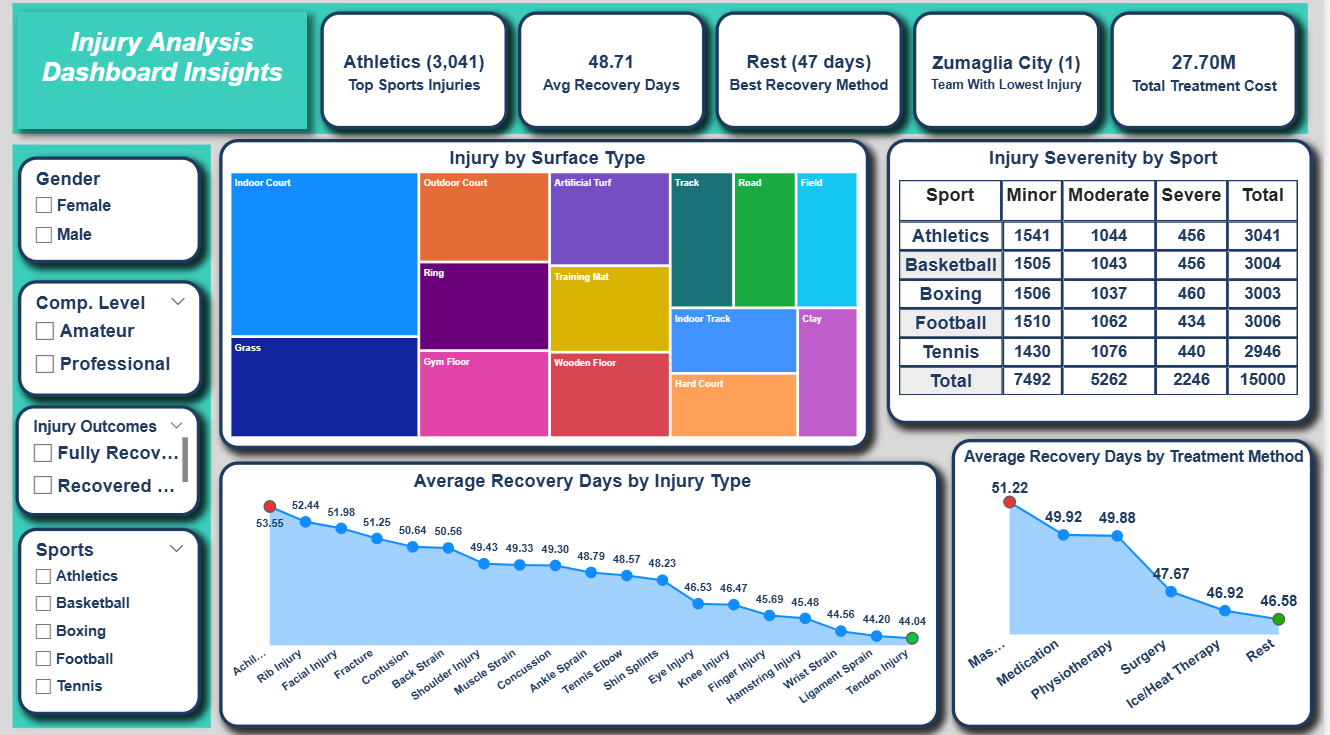

This screenshot's page, from the dashboard's own definition file:
{"tool":"powerbi","page":{"name":"Page 2","canvas":[1920,1080],"ordinal":1},"visuals":[{"type":"pivotTable","title":"Injury Severenity by Sport","fields":{"Rows":["DimClub.Sport"],"Columns":["DimInjuryType.Severity"],"Values":["CountNonNull(FactInjuries.InjuryID)"]},"box":[1286.7,209.9,617.1,412.6],"z":0},{"type":"areaChart","title":"Average Recovery Days by Injury Type","fields":{"Category":["DimInjuryType.InjuryType"],"Y":["Avg(FactInjuries.DaysToRecovery)"]},"box":[320.3,676.8,1042.4,385.5],"z":1000},{"type":"areaChart","title":"Average Recovery Days by Treatment Method","fields":{"Category":["DimTreatment.TreatmentMethod"],"Y":["Avg(FactInjuries.DaysToRecovery)"]},"box":[1380.8,644.2,523,418],"z":2000},{"type":"treemap","title":"Injury by Surface Type","fields":{"Group":["DimClub.SurfaceType"],"Values":["CountNonNull(FactInjuries.InjuryID)"]},"box":[320.3,209.9,941,448.8],"z":3000},{"type":"card","fields":{"Values":["DimClub.Top Sport Display"]},"box":[466.9,25.3,271.4,170.1],"z":4000},{"type":"card","fields":{"Values":["Avg(FactInjuries.DaysToRecovery)"]},"box":[752.8,25.3,271.4,170.1],"z":5000},{"type":"card","fields":{"Values":["DimClub.Best Treatment Display"]},"box":[1038.7,25.3,271.4,170.1],"z":6000},{"type":"card","fields":{"Values":["DimClub.Best Team Display"]},"box":[1324.7,25.3,271.4,170.1],"z":7000},{"type":"card","fields":{"Values":["Sum(FactInjuries.CostOfTreatmentEuros)"]},"box":[1610.6,25.3,271.4,170.1],"z":8000},{"type":"textbox","box":[27.1,25.3,419.8,170.1],"z":9000},{"type":"slicer","fields":{"Values":["DimPlayer.Gender"]},"box":[29.2,235.8,265,154.4],"z":10000},{"type":"slicer","fields":{"Values":["DimClub.Sport"]},"box":[29.2,772.2,265,271.3],"z":13000},{"type":"slicer","fields":{"Values":["DimClub.CompetitionLevel"]},"box":[29.2,415.3,267.1,169],"z":15000},{"type":"slicer","fields":{"Values":["FactInjuries.OUTCOME"]},"box":[25,594.8,267.1,160.7],"z":16000}]}

Visuals, with their boxes in screenshot pixels (x1, y1, x2, y2), scaled from the page's 1920x1080 canvas onto the 1330x735 screenshot:
"Injury Severenity by Sport" pivotTable: bbox(891, 143, 1319, 424)
"Average Recovery Days by Injury Type" areaChart: bbox(222, 461, 944, 723)
"Average Recovery Days by Treatment Method" areaChart: bbox(956, 438, 1319, 723)
"Injury by Surface Type" treemap: bbox(222, 143, 874, 448)
card - DimClub.Top Sport Display: bbox(323, 17, 511, 133)
card - Avg(FactInjuries.DaysToRecovery): bbox(521, 17, 709, 133)
card - DimClub.Best Treatment Display: bbox(720, 17, 908, 133)
card - DimClub.Best Team Display: bbox(918, 17, 1106, 133)
card - Sum(FactInjuries.CostOfTreatmentEuros): bbox(1116, 17, 1304, 133)
textbox: bbox(19, 17, 310, 133)
slicer - DimPlayer.Gender: bbox(20, 160, 204, 266)
slicer - DimClub.Sport: bbox(20, 526, 204, 710)
slicer - DimClub.CompetitionLevel: bbox(20, 283, 205, 398)
slicer - FactInjuries.OUTCOME: bbox(17, 405, 202, 514)
